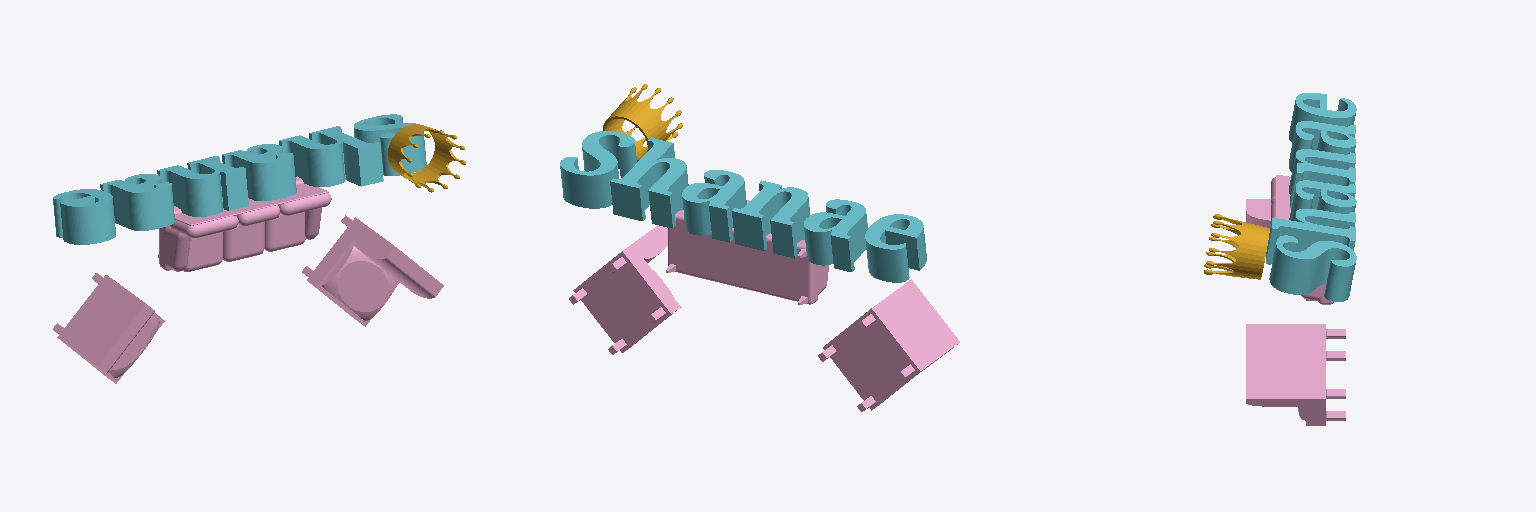
The model's file is tinker.obj.
3 views of the same model, side by side, from view 1: azimuth 30°, elevation 25°; view 2: azimuth 150°, elevation 25°; view 3: azimuth 270°, elevation 25° (orthographic).
Visible parts, largest first — view 1: obj_0; view 2: obj_0; view 3: obj_0.
Boxes of the visible parts, x1=… form: obj_0: x1=53, y1=114, x2=465, y2=383; obj_0: x1=560, y1=84, x2=959, y2=411; obj_0: x1=1204, y1=93, x2=1356, y2=425.
Size of the model in its own units: 101 by 61 by 38.34.